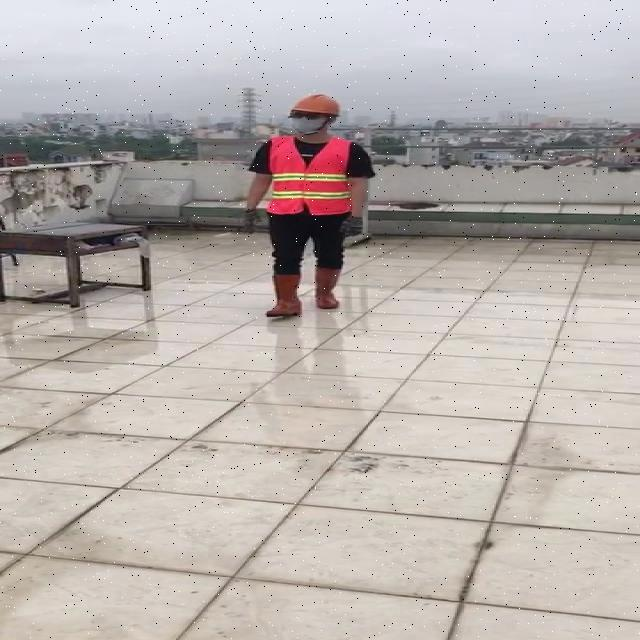Hard_hat: (287, 91, 346, 123)
Person: (238, 91, 386, 328)
Vest: (262, 137, 353, 220)
